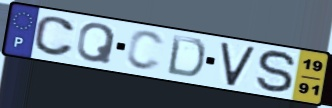C: (32, 15, 77, 59), (124, 29, 167, 73)
D: (164, 33, 207, 80)
Q: (75, 21, 118, 66)
S: (255, 49, 299, 95)
V: (219, 41, 258, 88)
